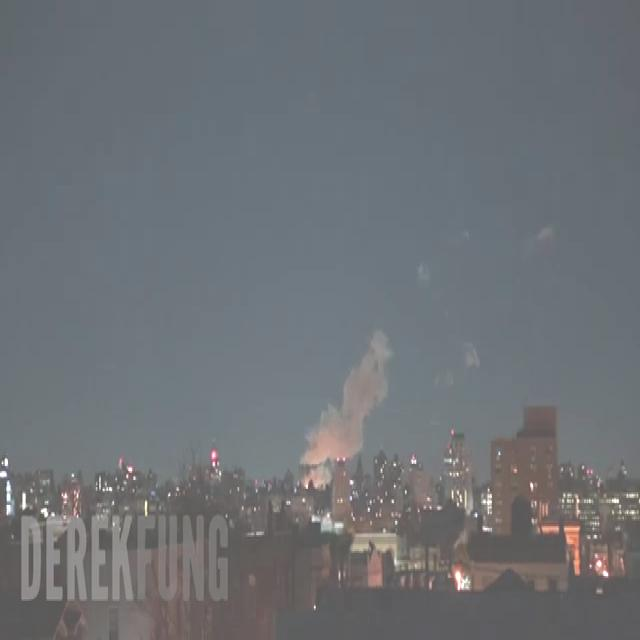smoke: (300, 329, 392, 466)
